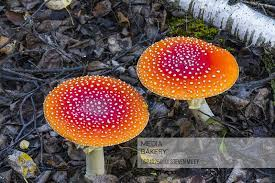Amanita muscaria: (39, 75, 148, 175), (135, 35, 244, 117)
